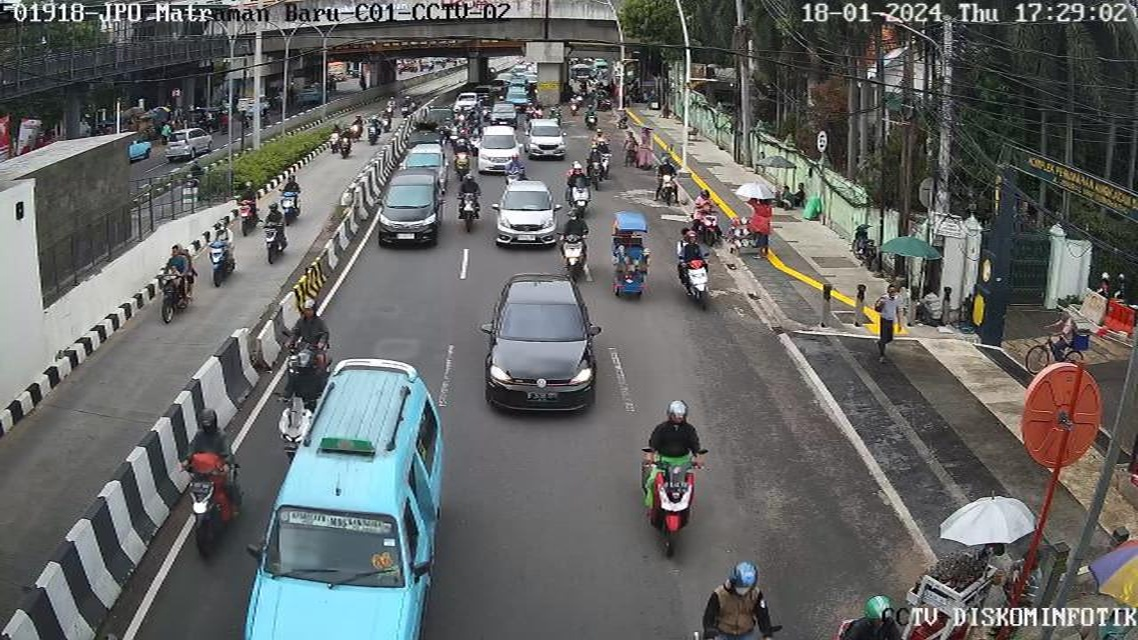Gerobak: (898, 544, 1010, 640), (617, 122, 661, 173)
